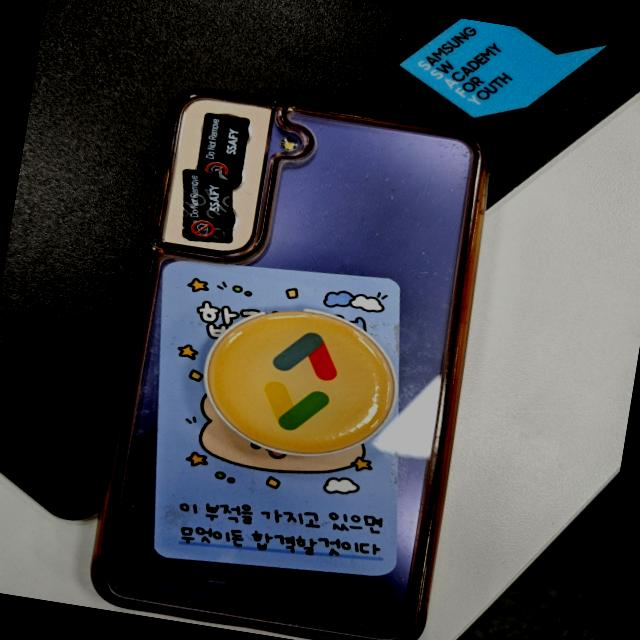phone: (89, 79, 503, 640)
removed_sticker: (173, 169, 241, 245)
sticker: (196, 112, 248, 178)
